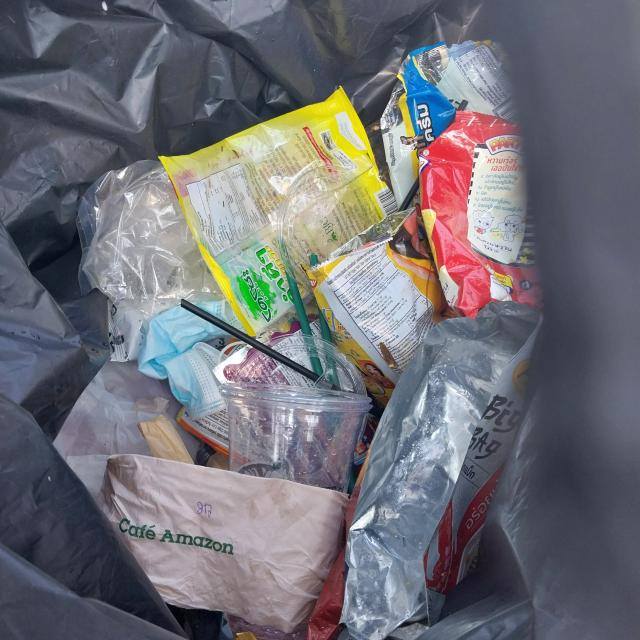Single-layer Plastic: (0, 0, 476, 640), (78, 160, 224, 361)
